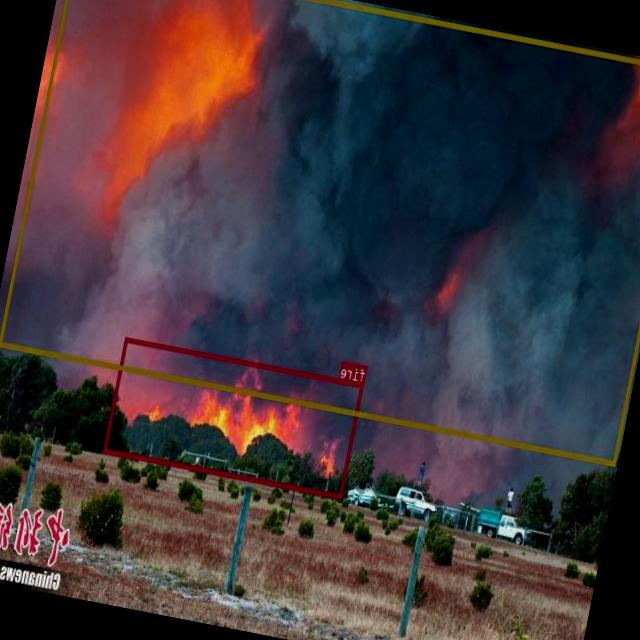fire: (104, 336, 366, 498)
smoke: (0, 0, 640, 465)
